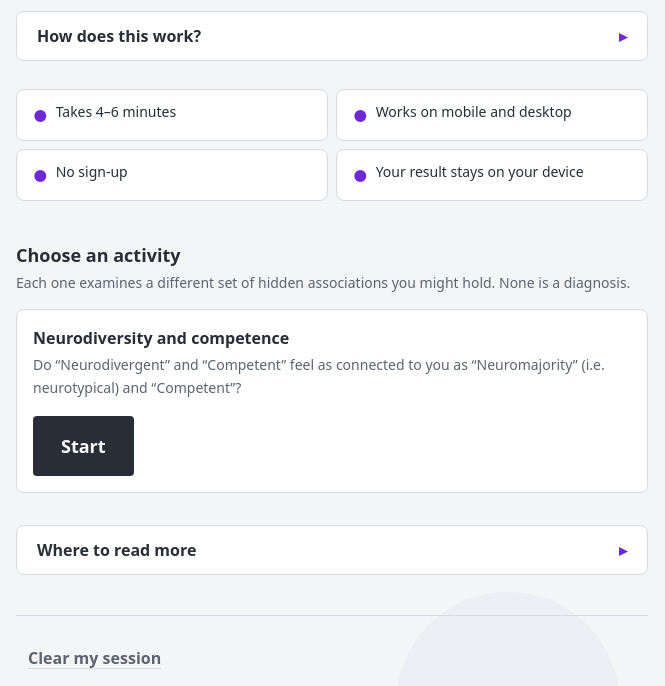
Test case: Hidden Associations activity › states that the activity may not suit everyone
(page scrolled)
Step 1. Click the button "Start" → (83, 446), box [33,416,134,476]
(page scrolled)
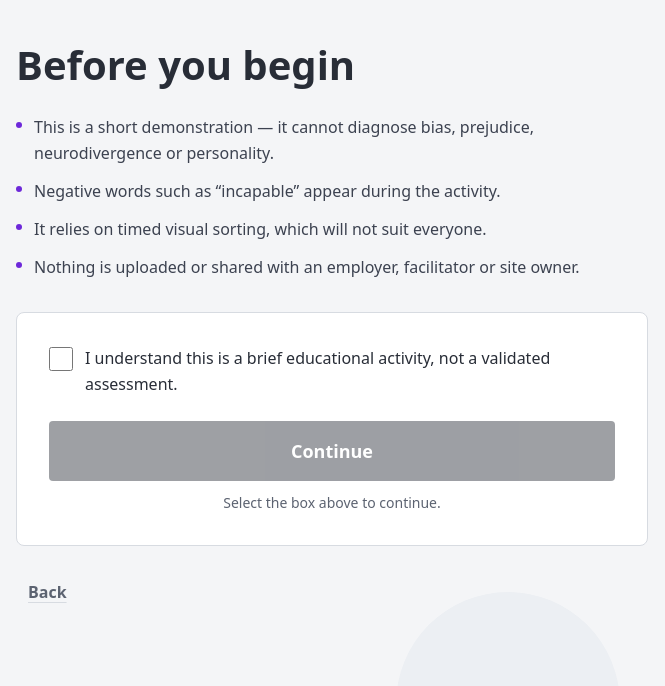
Expected: the text "It relies on timed visual sorting, which will not suit everyone." is shown, [34,216,487,242]
